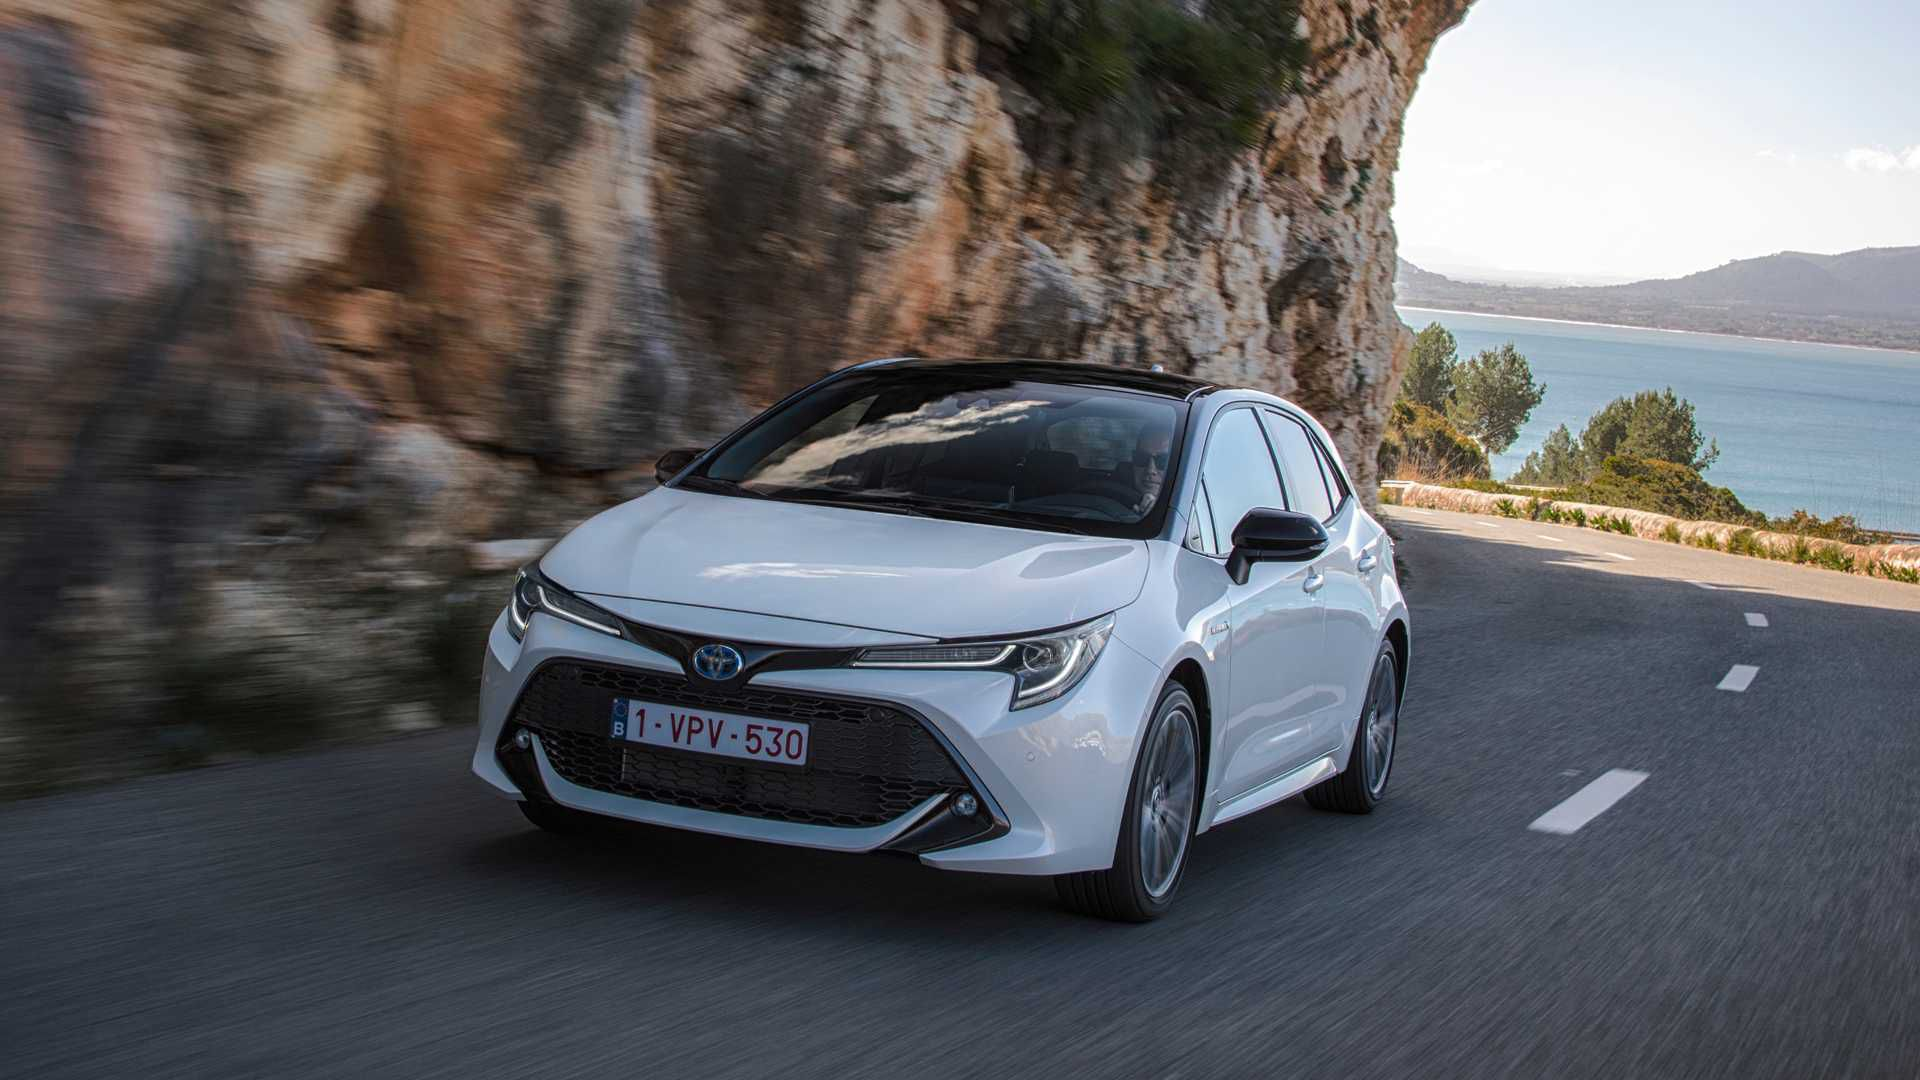car: (473, 360, 1410, 922)
